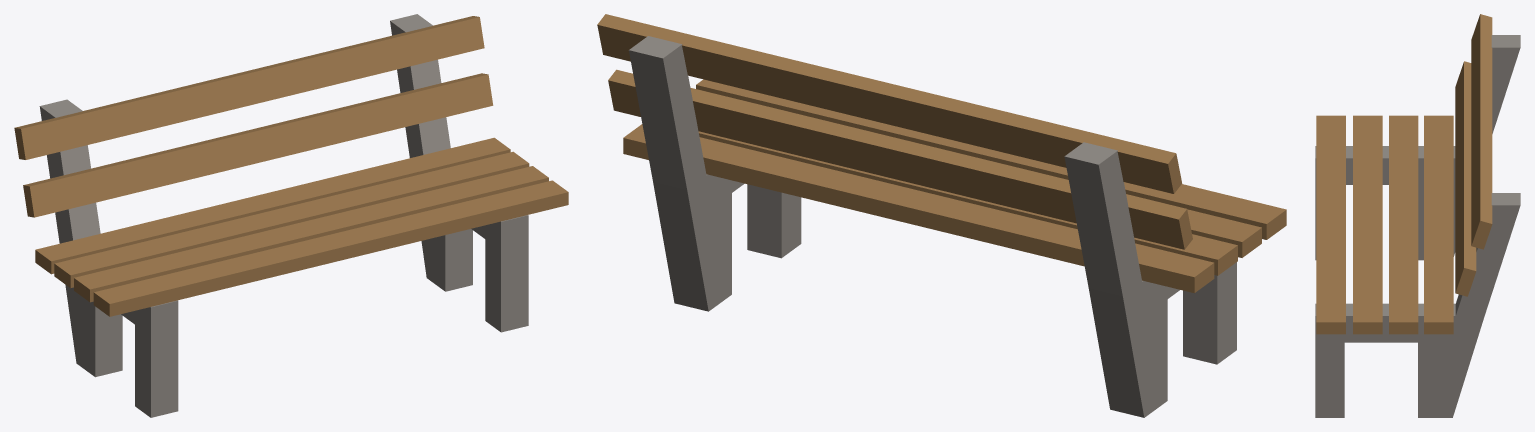
Rendered from banquette.fbx.
3 views of the same model, side by side, from view 1: azimuth 30°, elevation 25°; view 2: azimuth 150°, elevation 25°; view 3: azimuth 270°, elevation 25° (orthographic). The views are drawn at different scales.
Visible parts, largest first — view 1: bench_01; view 2: bench_01; view 3: bench_01.
Part boxes in pixels (bbox=[...]): bench_01: bbox=[14, 14, 568, 417]; bench_01: bbox=[597, 14, 1286, 417]; bench_01: bbox=[1315, 14, 1520, 417].
Size of the model in its own units: 167 by 81.09 by 69.97.
